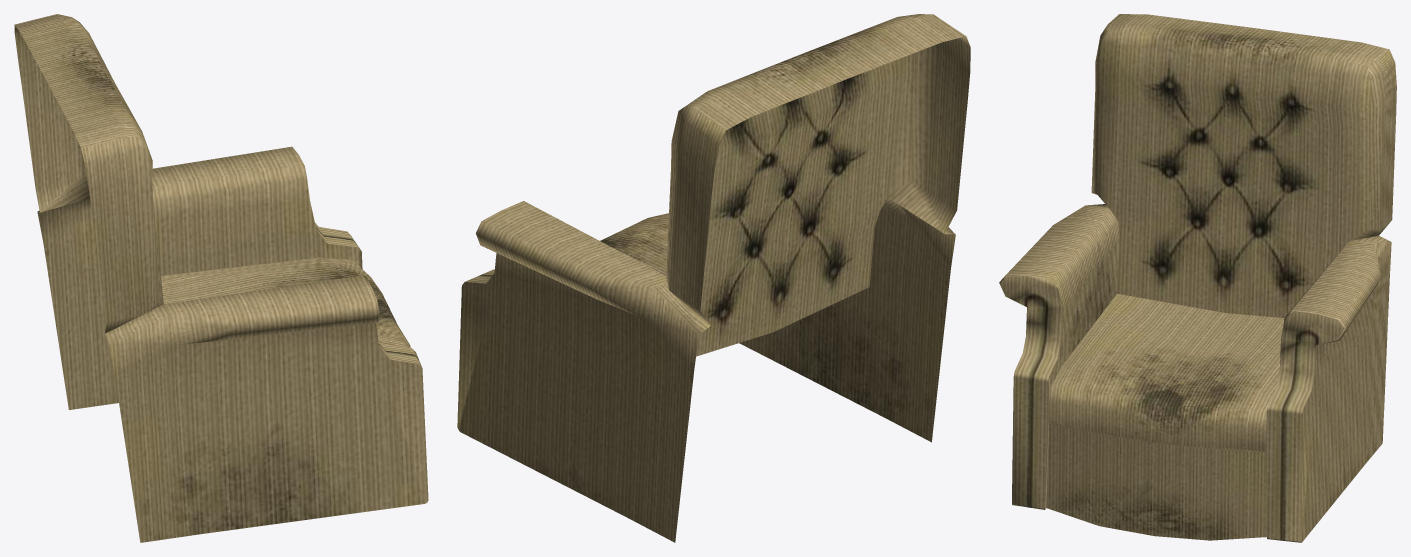
Rendered from Potrona.fbx.
The picture shows the model from 3 angles, left to right: view 1: azimuth 30°, elevation 25°; view 2: azimuth 150°, elevation 25°; view 3: azimuth 270°, elevation 25°; orthographic projection. The views are drawn at different scales.
Parts seen in each view (by area): view 1: Quarto_B_Cadeira; view 2: Quarto_B_Cadeira; view 3: Quarto_B_Cadeira.
Boxes of the visible parts, x1,y1,x2,y2 form: Quarto_B_Cadeira: (14, 14, 428, 542); Quarto_B_Cadeira: (457, 14, 970, 542); Quarto_B_Cadeira: (999, 14, 1396, 542).
Size of the model in its own units: 10937 by 11393 by 10779.
